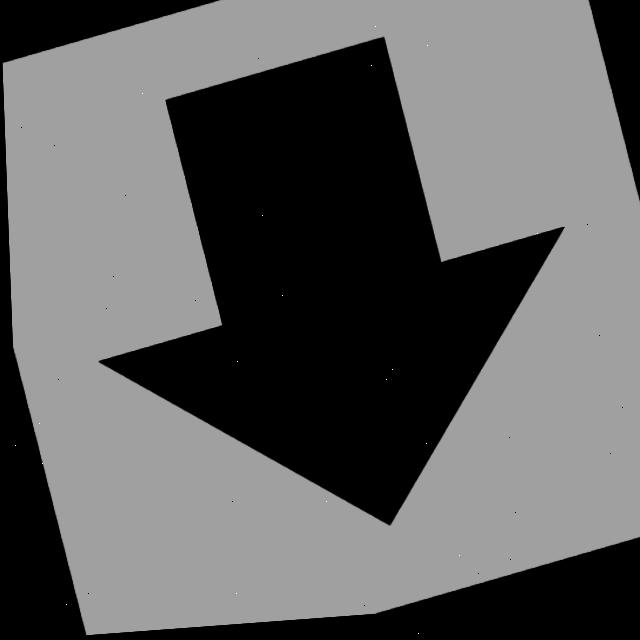DOWN: (101, 44, 559, 528)
